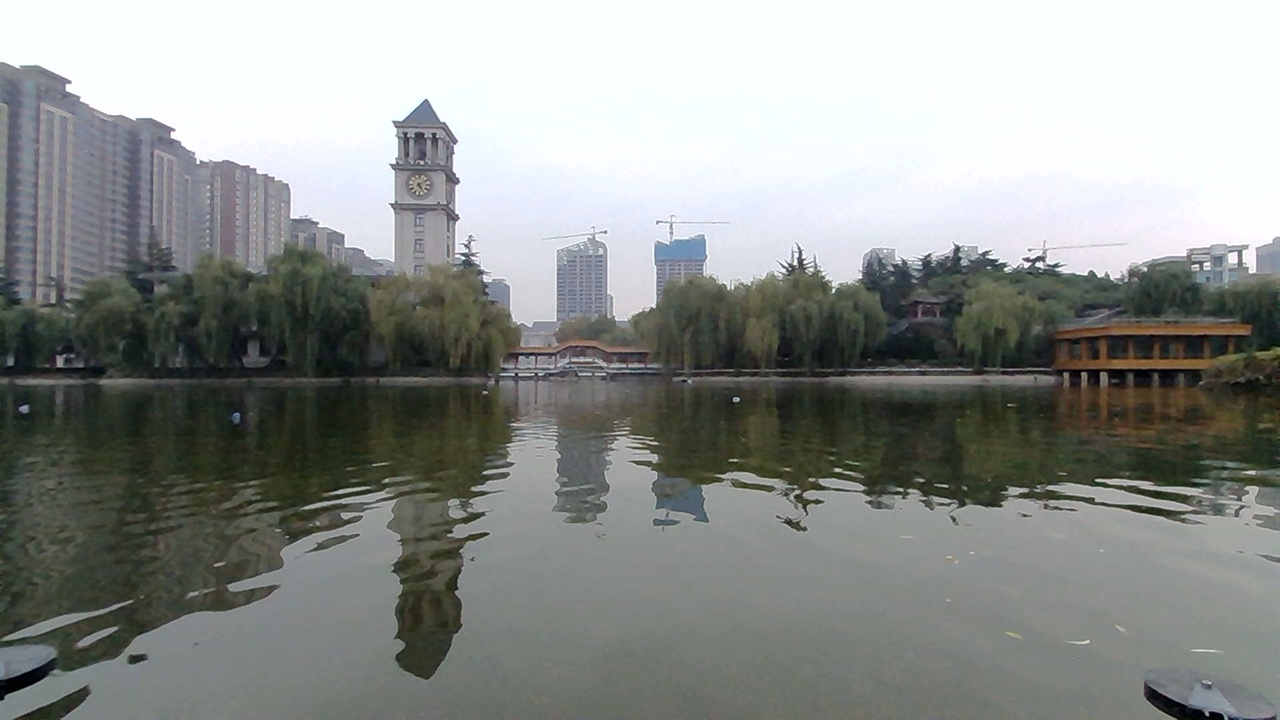bottle: (710, 389, 753, 413), (221, 407, 255, 429), (13, 391, 34, 419)
